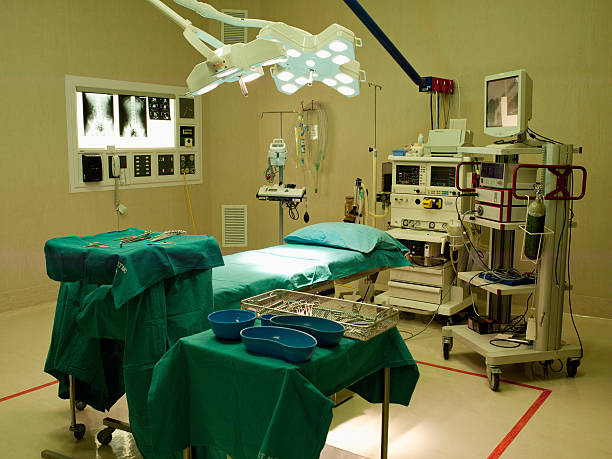bedside_monitor: (74, 88, 177, 151), (479, 69, 536, 138), (391, 165, 461, 191)
iv_pole: (257, 109, 299, 244), (368, 80, 381, 228)
operating_bed: (43, 222, 407, 441)
surgical_instrument: (207, 283, 400, 362), (50, 228, 211, 310)
surgical_light: (183, 24, 359, 104)
syringe_pump: (255, 181, 306, 203)
utility_cart: (149, 321, 421, 459), (44, 235, 215, 442)
ventilator: (376, 149, 474, 301)
